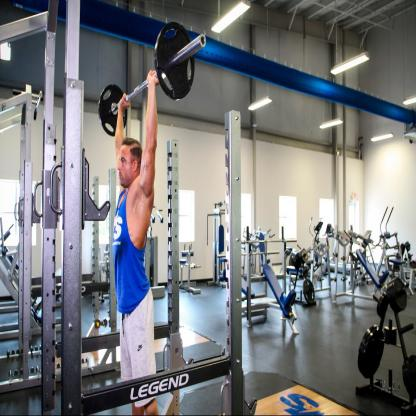Barbell: (152, 16, 198, 103)
